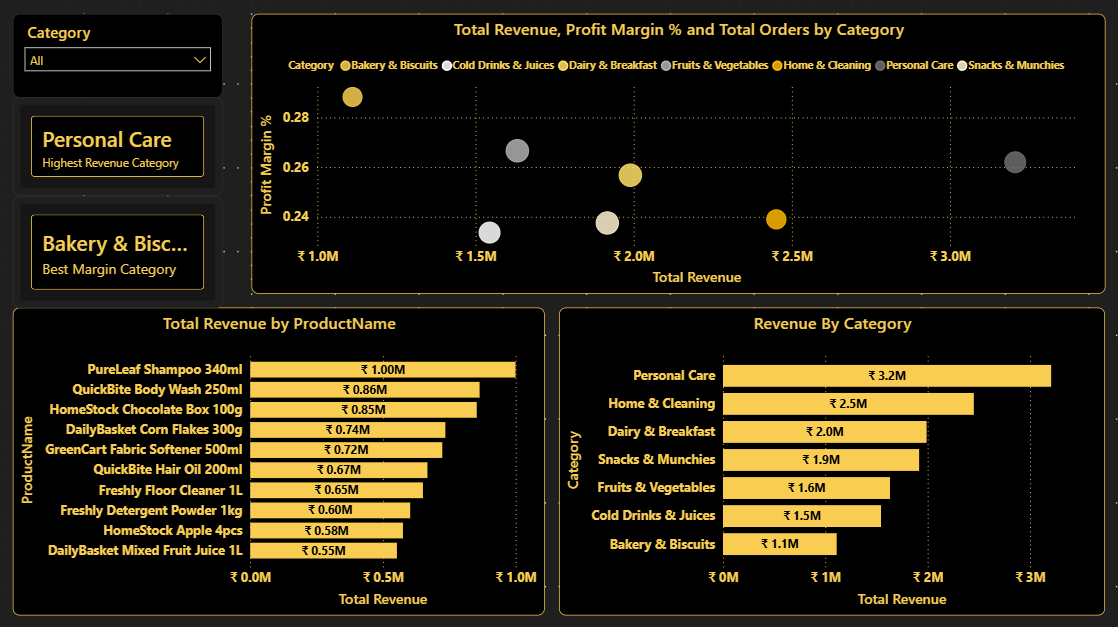

The page's visual inventory and layout, read from the dashboard file:
{"tool":"powerbi","page":{"name":"Product & Category Performance","canvas":[1280,720],"ordinal":2},"visuals":[{"type":"barChart","title":"Revenue By Category","fields":{"Category":["Products_Dim.Category"],"Y":["_Measures.Total Revenue"]},"box":[640,352,624,352],"z":0},{"type":"barChart","fields":{"Category":["Products_Dim.ProductName"],"Y":["_Measures.Total Revenue"]},"box":[16,352,608,352],"z":1},{"type":"scatterChart","fields":{"X":["_Measures.Total Revenue"],"Y":["_Measures.Profit Margin %"],"Series":["Products_Dim.Category"],"Size":["_Measures.Total Orders"]},"box":[288,16,976,320],"z":2},{"type":"slicer","fields":{"Values":["Products_Dim.Category"]},"box":[16,16,240,96],"z":3},{"type":"cardVisual","fields":{"Data":["_Measures.Best Margin Category"]},"box":[16,224,240,128],"z":4},{"type":"cardVisual","fields":{"Data":["Calendar.Highest Revenue Category"]},"box":[16,112,240,112],"z":5}]}

Visuals, with their boxes in screenshot pixels (x1, y1, x2, y2), scaled from the page's 1280x720 canvas onto the 1118x627 screenshot:
"Revenue By Category" barChart: pyautogui.locateOnScreen(559, 307, 1104, 613)
barChart - Products_Dim.ProductName x _Measures.Total Revenue: pyautogui.locateOnScreen(14, 307, 545, 613)
scatterChart - _Measures.Total Revenue x _Measures.Profit Margin %: pyautogui.locateOnScreen(252, 14, 1104, 293)
slicer - Products_Dim.Category: pyautogui.locateOnScreen(14, 14, 224, 98)
cardVisual - _Measures.Best Margin Category: pyautogui.locateOnScreen(14, 195, 224, 307)
cardVisual - Calendar.Highest Revenue Category: pyautogui.locateOnScreen(14, 98, 224, 195)
